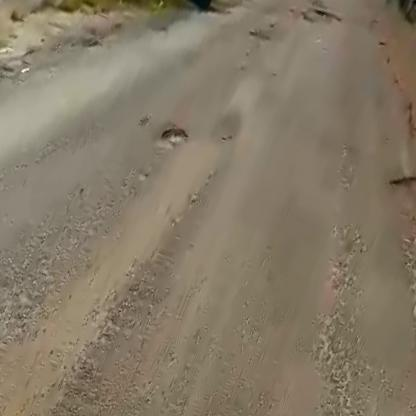pothole: (150, 114, 195, 153)
